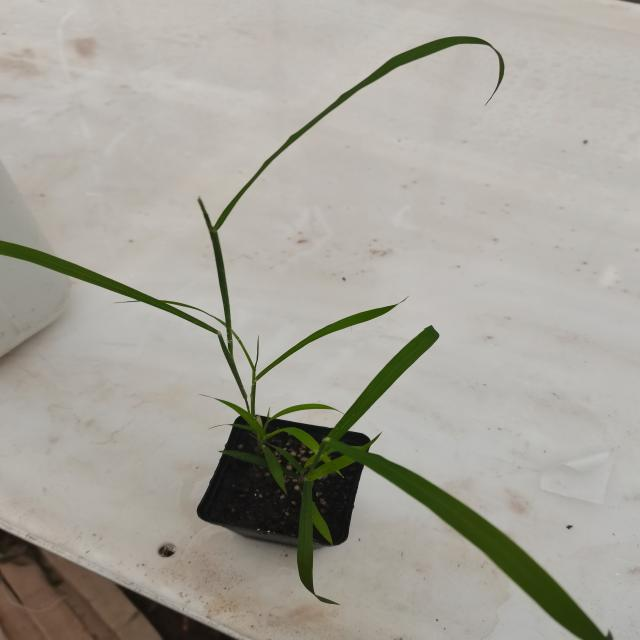crabgrass: (188, 298, 591, 626)
